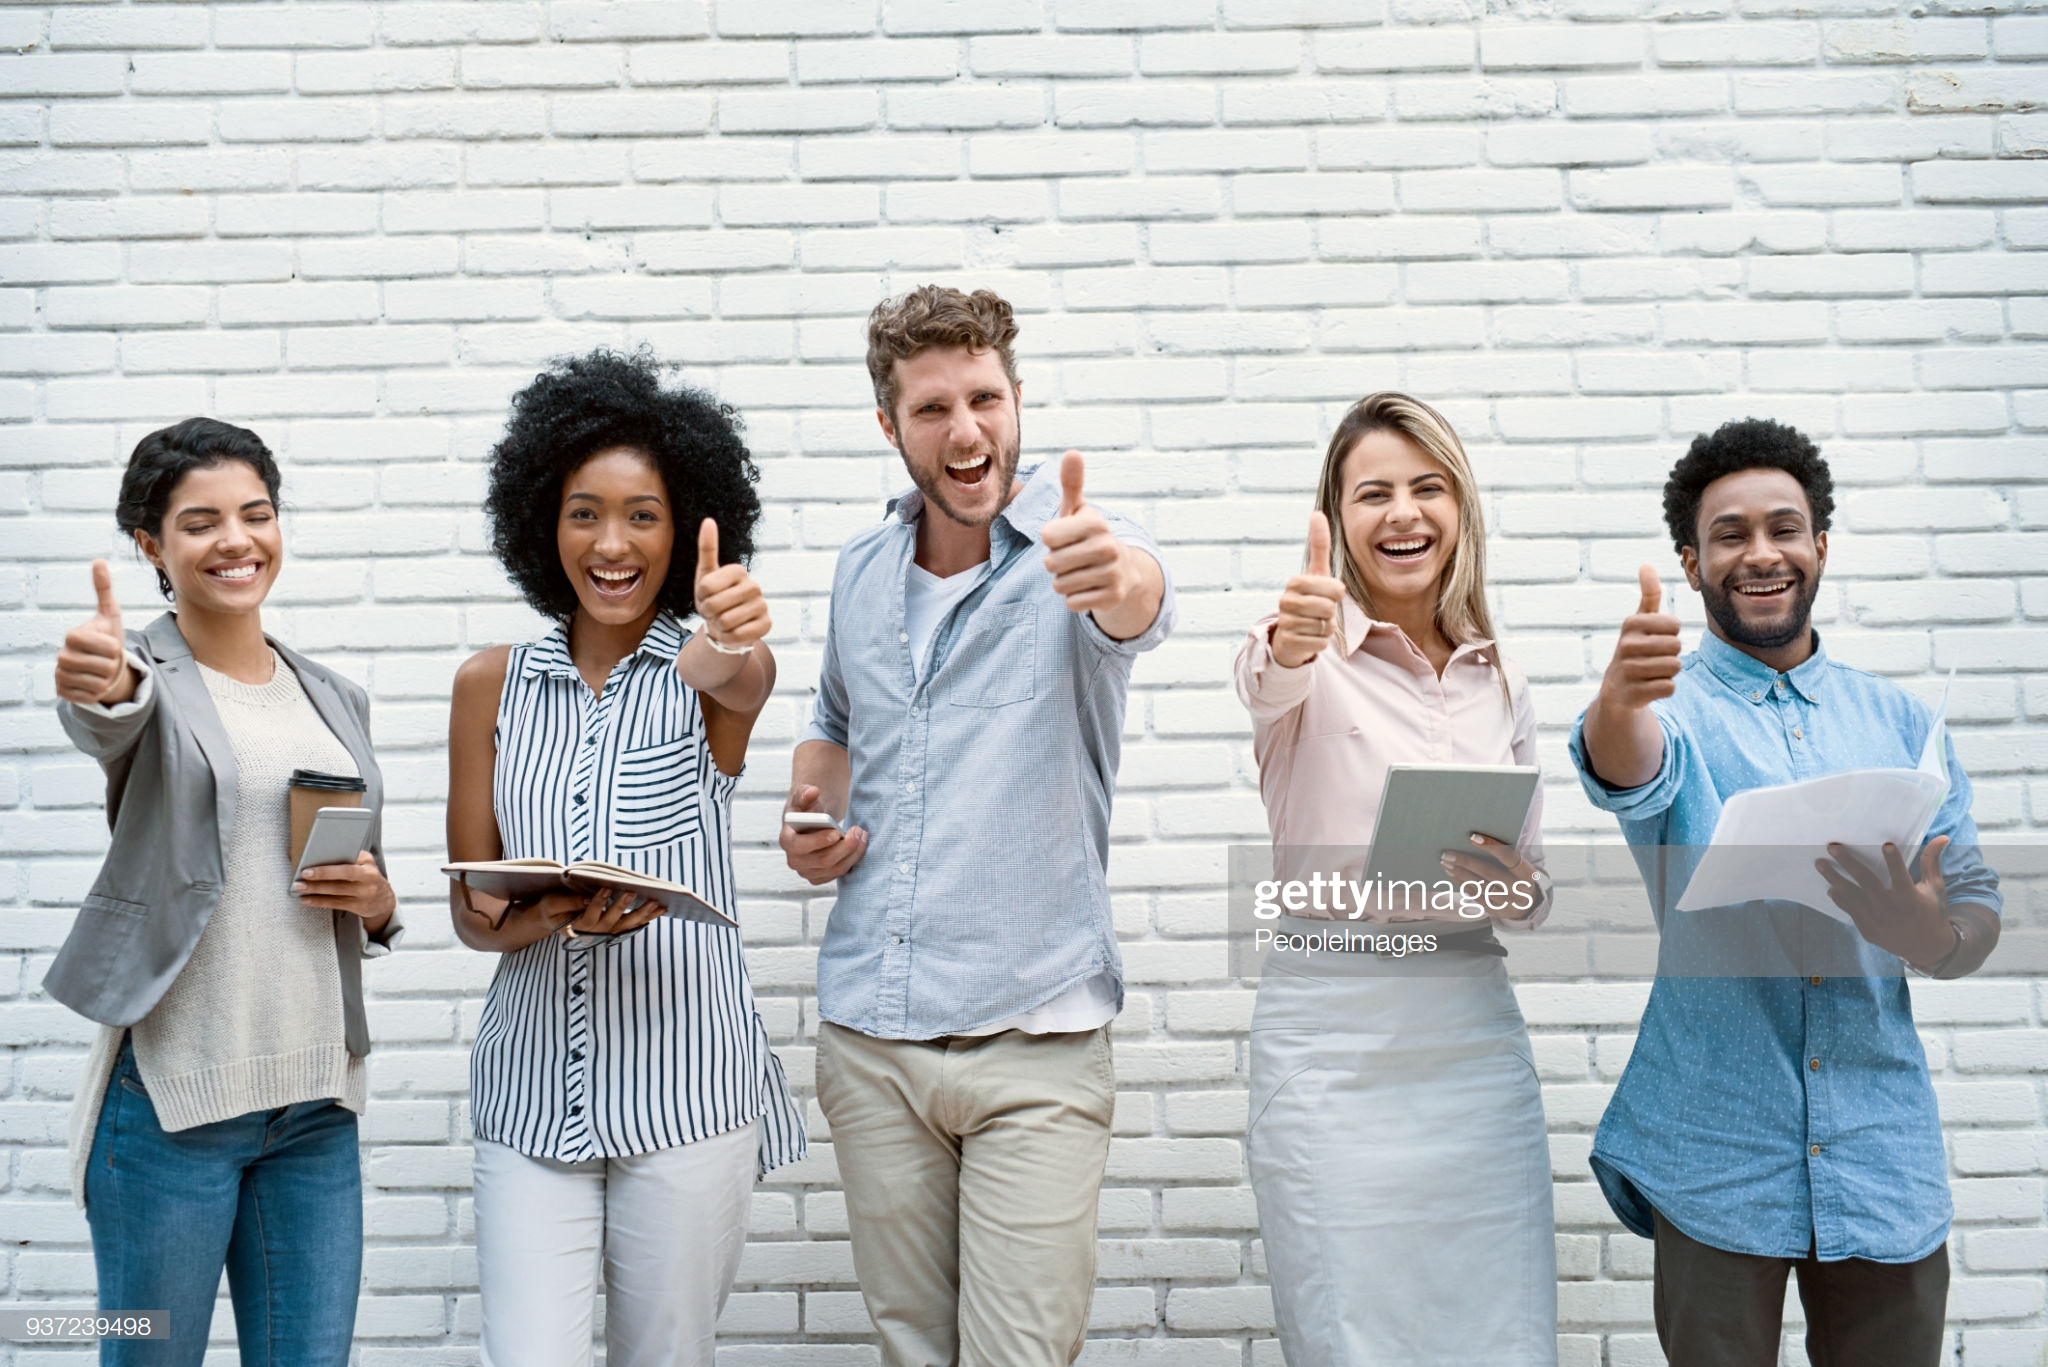thumbsup: (1042, 450, 1125, 610), (53, 558, 124, 703), (1276, 510, 1343, 651), (695, 516, 772, 639), (1616, 564, 1680, 700)
